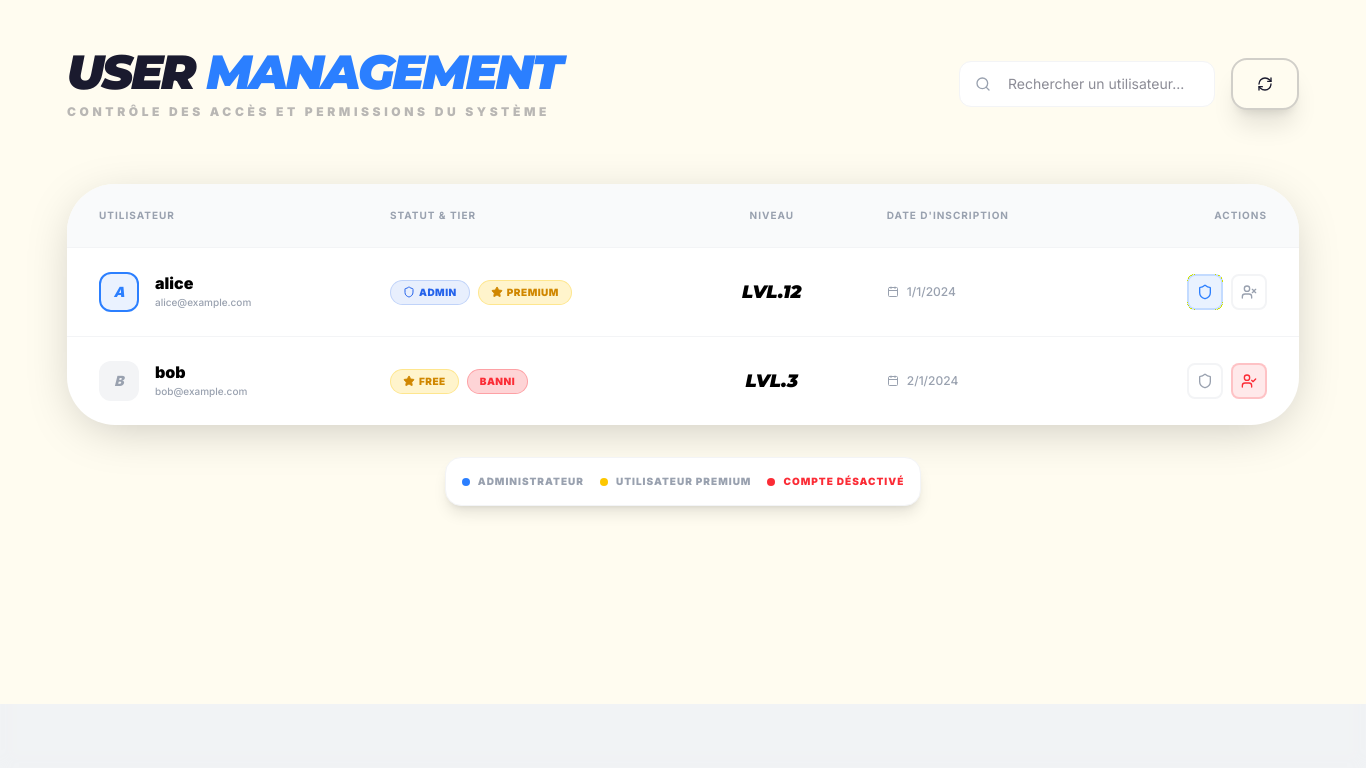
Scenario: UserManagementPage › filters the user list by the search term
expect the text "alice" is shown: met, box left=155, top=272, right=193, bottom=292
Type "bob" into the field labelled "Rechercher un utilisateur" at (1087,84), box left=959, top=61, right=1215, bottom=107
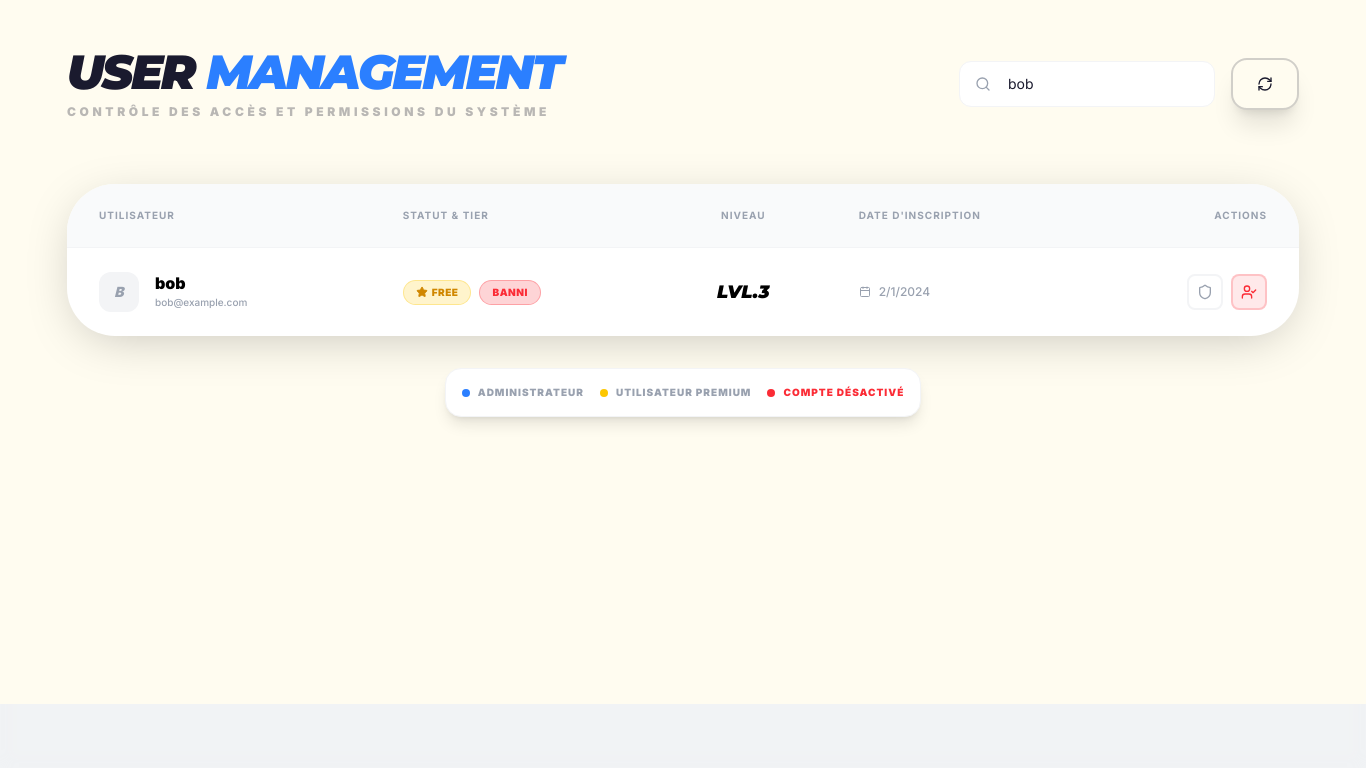
expect the text "bob" is shown: met, box left=155, top=272, right=186, bottom=292
expect the text "alice" is gone: met
